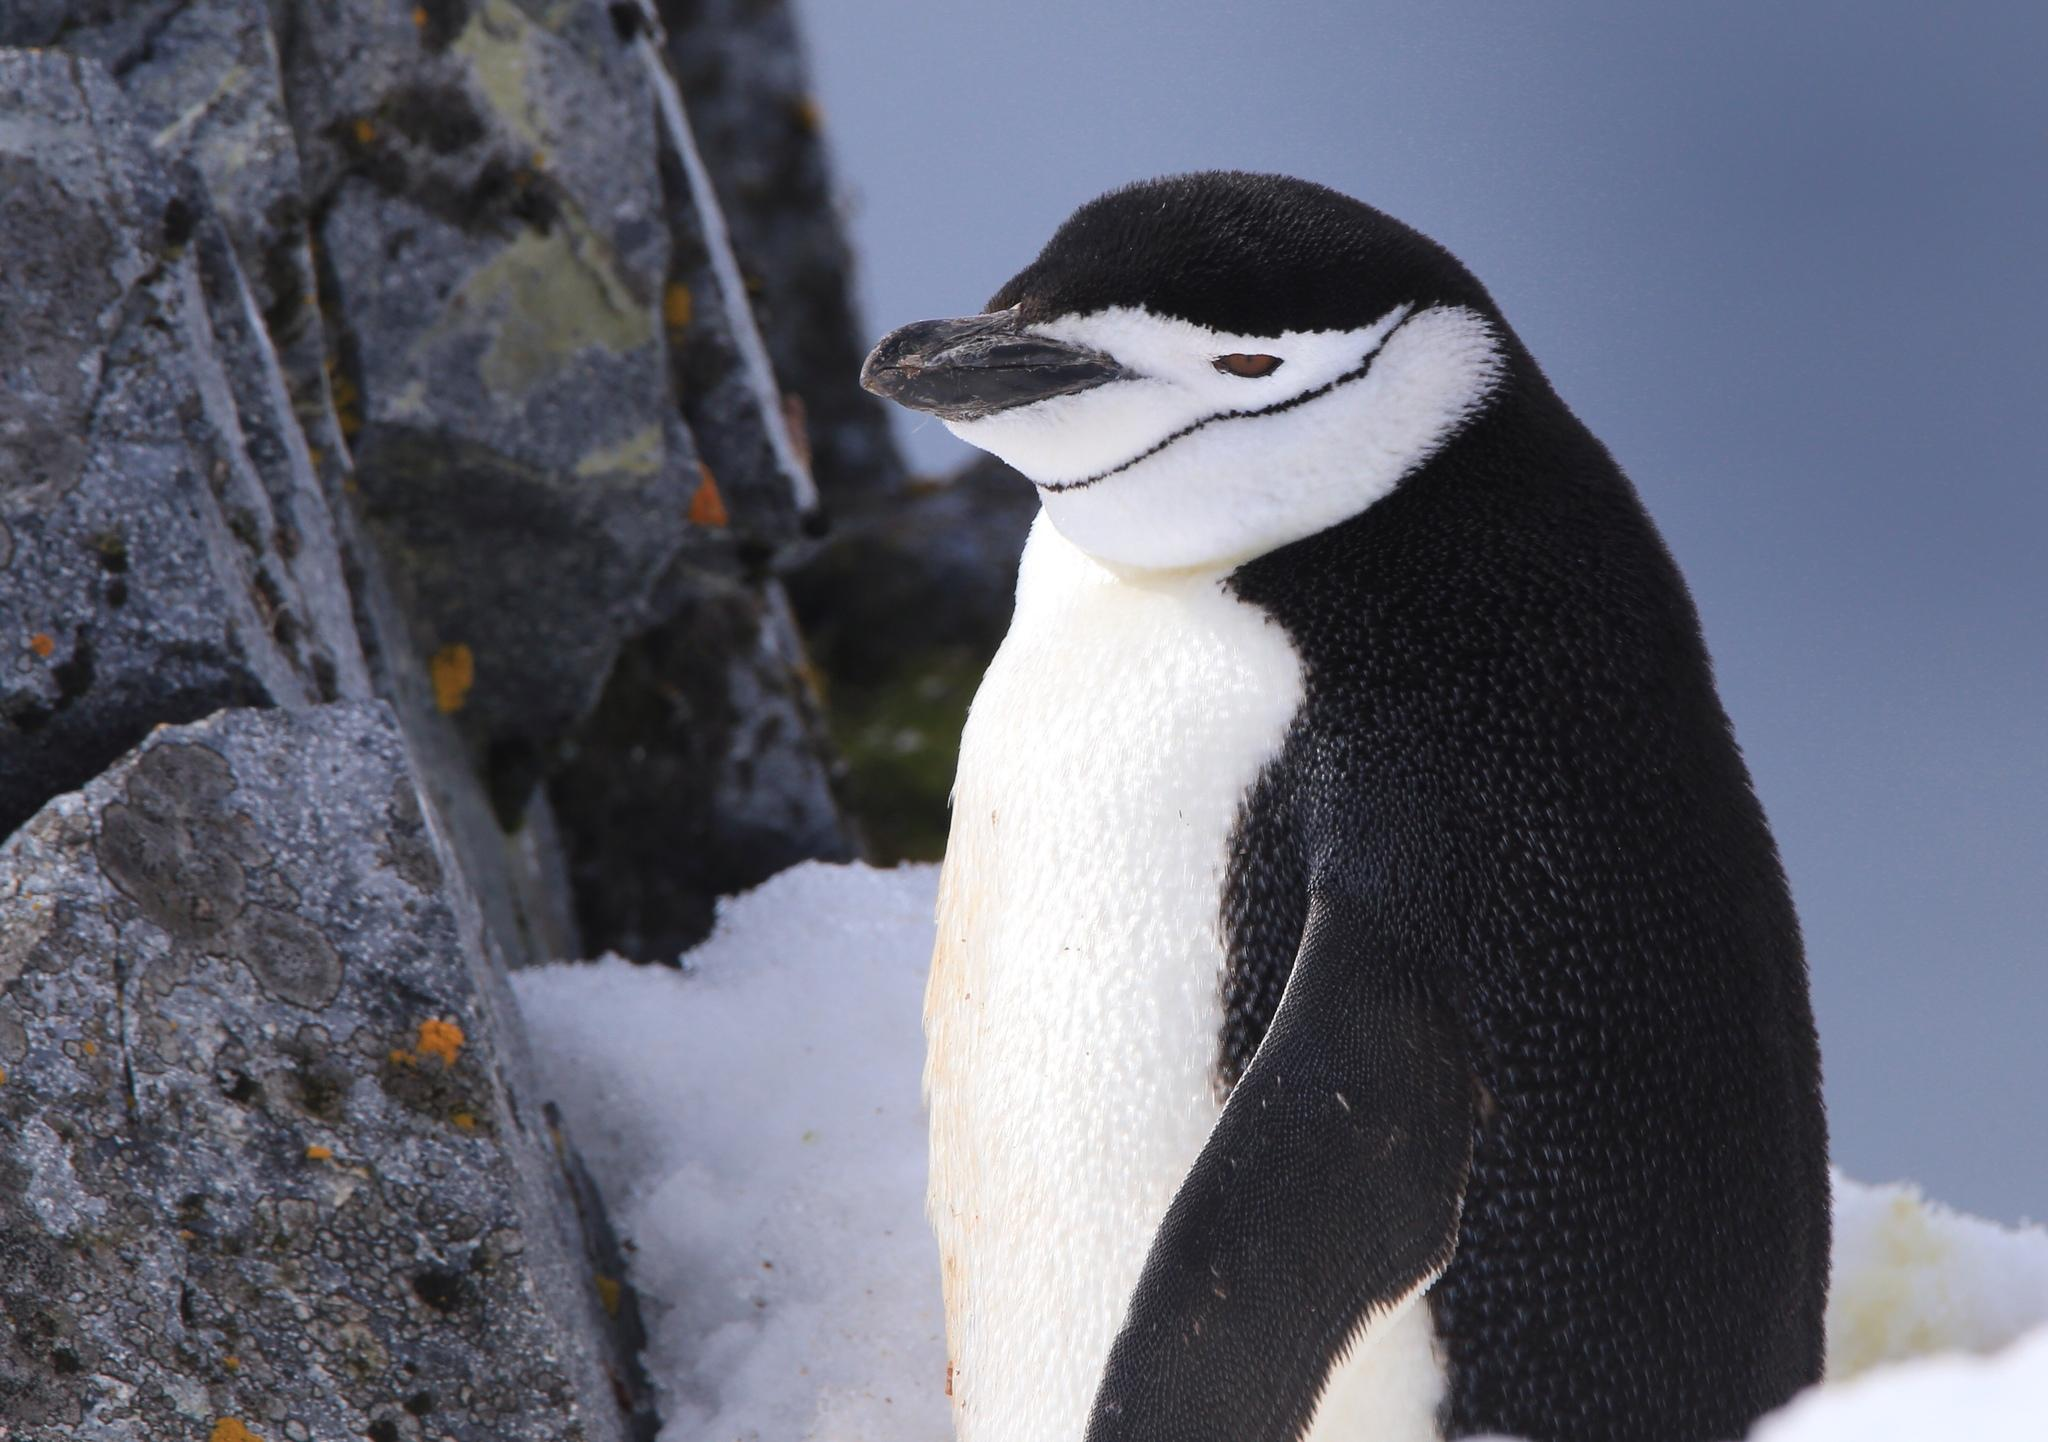chinstrap: (577, 117, 2048, 1442)
